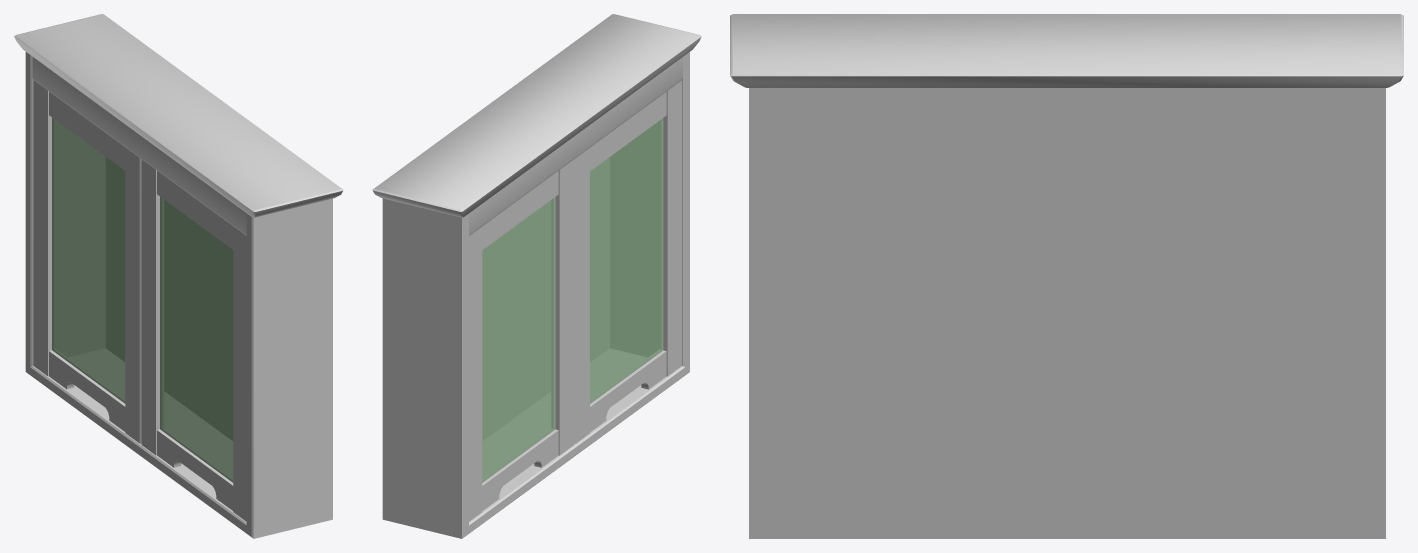
File: FredenMirrorCabinet.FBX
3 renders of one model, left to right at view 1: azimuth 30°, elevation 25°; view 2: azimuth 150°, elevation 25°; view 3: azimuth 270°, elevation 25°, orthographic. The views are drawn at different scales.
Visible parts, largest first — view 1: FredenMirrorCabinet; view 2: FredenMirrorCabinet; view 3: FredenMirrorCabinet.
Part boxes in pixels (x1,y1,x2,y2): FredenMirrorCabinet: (14, 14, 343, 538); FredenMirrorCabinet: (372, 14, 701, 538); FredenMirrorCabinet: (730, 14, 1403, 538).
Size of the model in its own units: 17.5 by 81 by 62.
